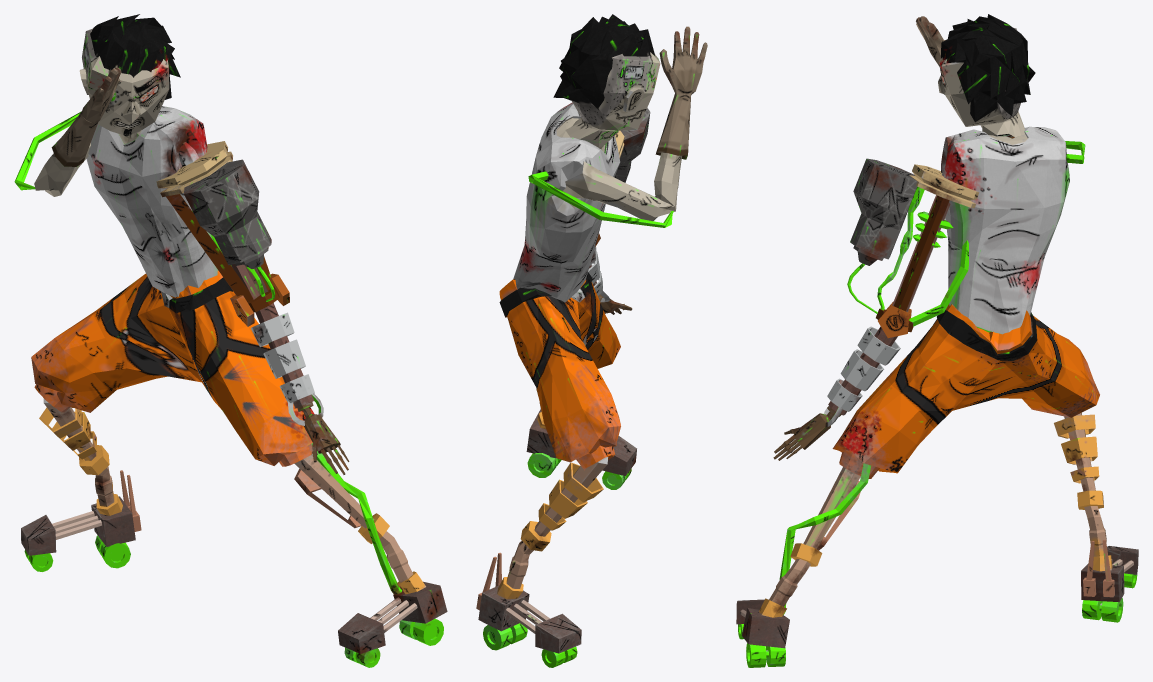
Rendered from CyborgFINALAnimation_000073.obj.
3 views of the same model, side by side, from view 1: azimuth 30°, elevation 25°; view 2: azimuth 150°, elevation 25°; view 3: azimuth 270°, elevation 25° (orthographic). The views are drawn at different scales.
Visible parts, largest first — view 1: CyborgMesh_Cube.002; view 2: CyborgMesh_Cube.002; view 3: CyborgMesh_Cube.002.
Boxes of the visible parts, x1,y1,x2,y2 form: CyborgMesh_Cube.002: (14, 14, 447, 667); CyborgMesh_Cube.002: (476, 14, 707, 667); CyborgMesh_Cube.002: (736, 14, 1138, 667).
Size of the model in its own units: 4.22 by 8.63 by 5.45.
